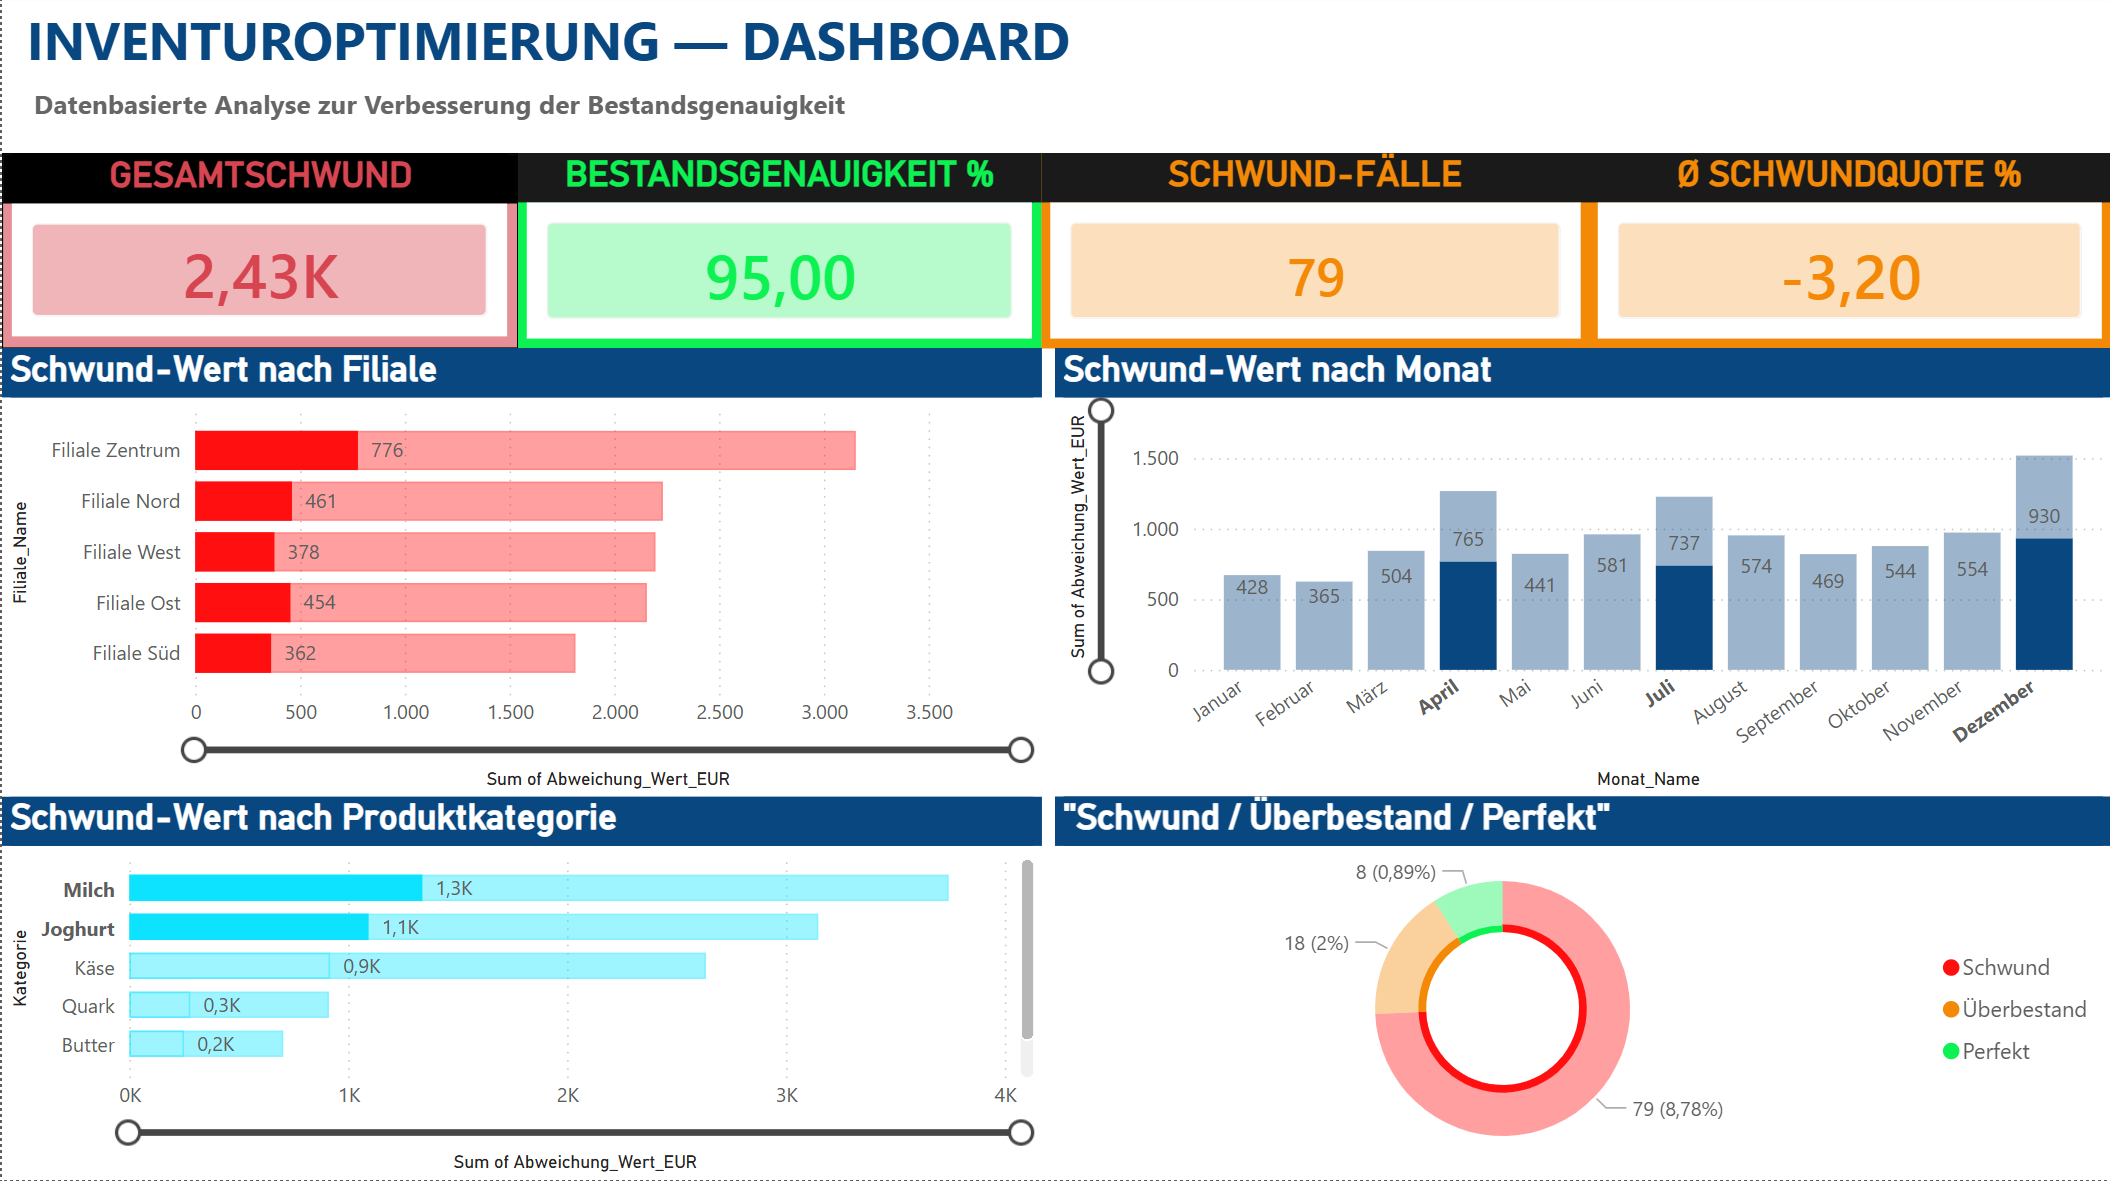

The dashboard page shown, as its layout file describes it:
{"tool":"powerbi","page":{"name":"Dashboard","canvas":[1280,720],"ordinal":0},"visuals":[{"type":"textbox","box":[10.4,0,701,66],"z":0},{"type":"textbox","box":[10.4,49.8,701,47.5],"z":1000},{"type":"cardVisual","title":"GESAMTSCHWUND","fields":{"Data":["Sum(Rohdaten.Abweichung_Wert_EUR)"]},"box":[0,96.7,313.2,118.5],"z":2000},{"type":"cardVisual","title":" BESTANDSGENAUIGKEIT %","fields":{"Data":["Rohdaten.Bestandsgenauigkeit"]},"box":[313.2,96.7,318,118.5],"z":3000},{"type":"cardVisual","title":"SCHWUND-FÄLLE","fields":{"Data":["Rohdaten.Schwund_Fälle"]},"box":[631.1,96.7,332.5,118.5],"z":4000},{"type":"cardVisual","title":"Ø SCHWUNDQUOTE %","fields":{"Data":["Rohdaten.Avg_Schwundquote"]},"box":[963.6,96.7,316.8,118.5],"z":5000},{"type":"clusteredBarChart","title":"Schwund-Wert nach Filiale","fields":{"Category":["Rohdaten.Filiale_Name"],"Y":["Sum(Rohdaten.Abweichung_Wert_EUR)"]},"box":[0,215.2,631.1,272],"z":6000},{"type":"clusteredColumnChart","title":"Schwund-Wert nach Monat","fields":{"Y":["Sum(Rohdaten.Abweichung_Wert_EUR)"],"Category":["Rohdaten.Monat_Name"]},"box":[639.6,215.2,640.8,272],"z":7000},{"type":"clusteredBarChart","title":"Schwund-Wert nach Produktkategorie","fields":{"Category":["Rohdaten.Kategorie"],"Y":["Sum(Rohdaten.Abweichung_Wert_EUR)"]},"box":[0,487.3,631.1,232.1],"z":8000},{"type":"donutChart","title":"\"Schwund / Überbestand / Perfekt\"","fields":{"Category":["Rohdaten.Abweichung_Typ"],"Y":["CountNonNull(Rohdaten.Abweichung_Typ)"]},"box":[639.6,487.3,640.8,232.1],"z":9000}]}

Visuals, with their boxes in screenshot pixels (x1, y1, x2, y2), scaled from the page's 1280x720 canvas onto the 2110x1181 screenshot:
textbox: [left=17, top=0, right=1173, bottom=108]
textbox: [left=17, top=82, right=1173, bottom=160]
"GESAMTSCHWUND" cardVisual: [left=0, top=159, right=516, bottom=353]
" BESTANDSGENAUIGKEIT %" cardVisual: [left=516, top=159, right=1040, bottom=353]
"SCHWUND-FÄLLE" cardVisual: [left=1040, top=159, right=1588, bottom=353]
"Ø SCHWUNDQUOTE %" cardVisual: [left=1588, top=159, right=2109, bottom=353]
"Schwund-Wert nach Filiale" clusteredBarChart: [left=0, top=353, right=1040, bottom=799]
"Schwund-Wert nach Monat" clusteredColumnChart: [left=1054, top=353, right=2109, bottom=799]
"Schwund-Wert nach Produktkategorie" clusteredBarChart: [left=0, top=799, right=1040, bottom=1180]
""Schwund / Überbestand / Perfekt"" donutChart: [left=1054, top=799, right=2109, bottom=1180]
